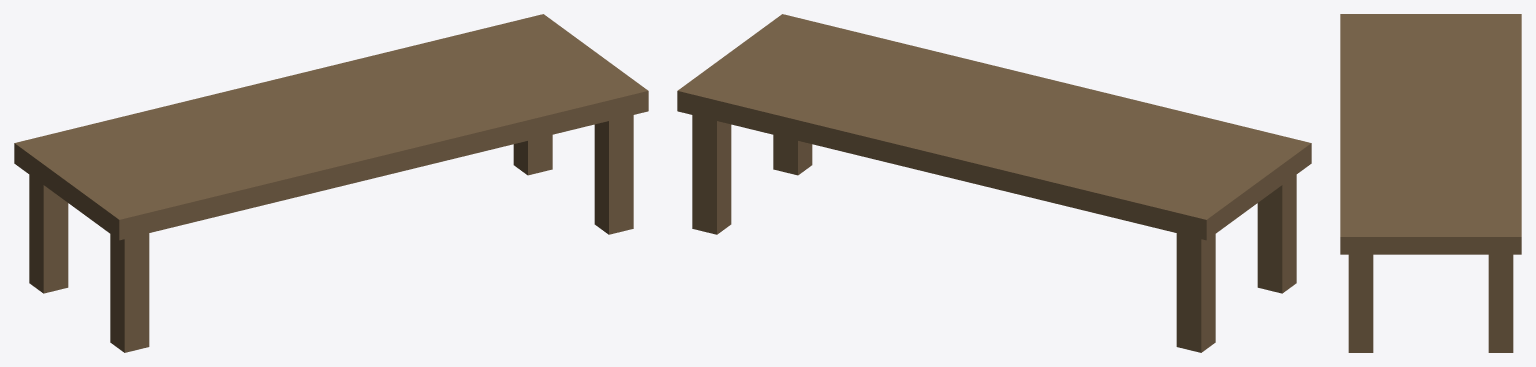
Rendered from Bench.fbx.
The picture shows the model from 3 angles, left to right: view 1: azimuth 30°, elevation 25°; view 2: azimuth 150°, elevation 25°; view 3: azimuth 270°, elevation 25°; orthographic projection. The views are drawn at different scales.
Visible parts, largest first — view 1: Cube.006; view 2: Cube.006; view 3: Cube.006.
Boxes of the visible parts, x1,y1,x2,y2 form: Cube.006: (14, 14, 648, 352); Cube.006: (677, 14, 1311, 352); Cube.006: (1340, 14, 1521, 352).
Size of the model in its own units: 934 by 235 by 321.
